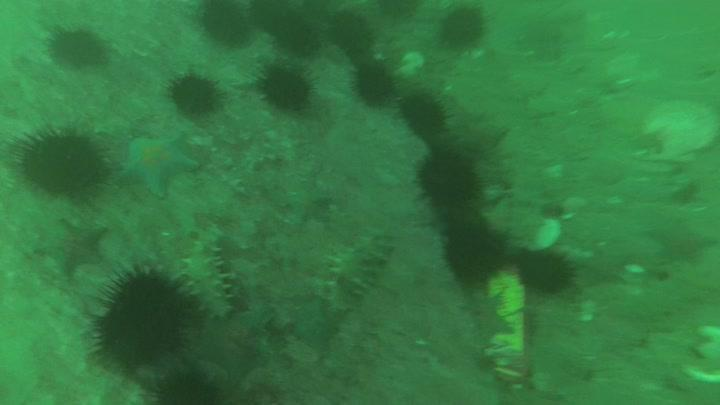urchin: (84, 260, 194, 369), (6, 119, 106, 204), (431, 219, 507, 284), (407, 146, 484, 210), (251, 57, 315, 110), (269, 5, 329, 60), (162, 67, 225, 119), (395, 87, 454, 141), (46, 21, 107, 72), (518, 243, 574, 296), (147, 366, 218, 405), (435, 6, 489, 55), (348, 60, 399, 108), (198, 2, 250, 45), (324, 8, 371, 52)
